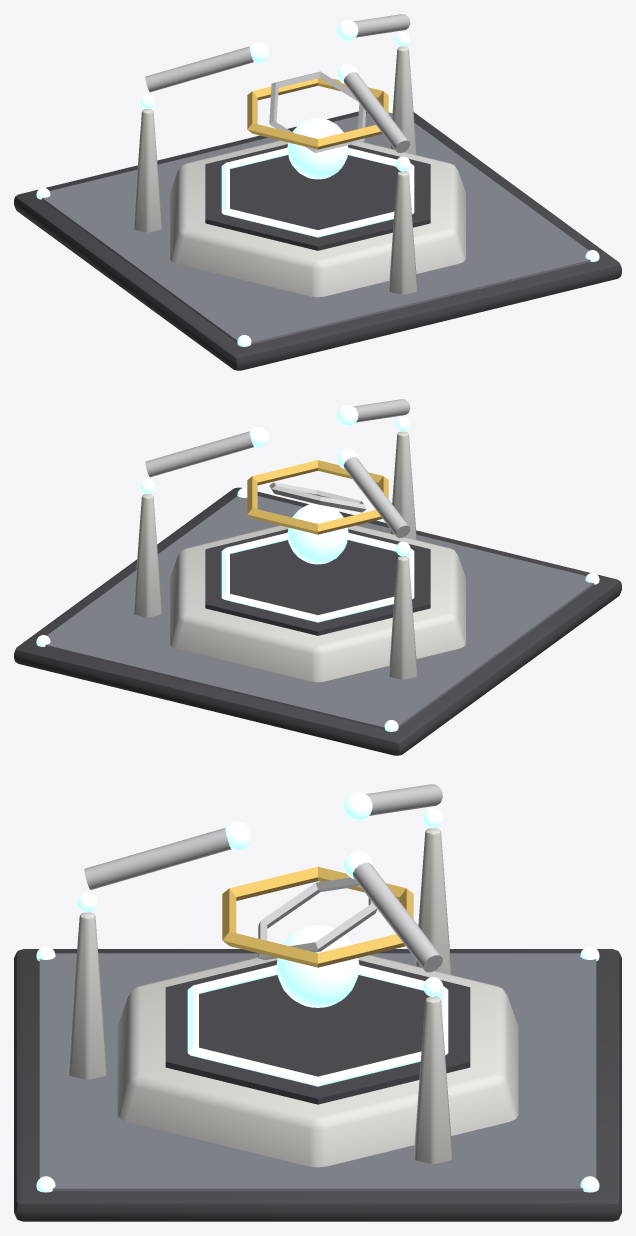
The model's file is medic_rob.glb.
The picture shows the model from 3 angles, top to bottom: view 1: azimuth 30°, elevation 25°; view 2: azimuth 150°, elevation 25°; view 3: azimuth 270°, elevation 25°; orthographic projection. The views are drawn at different scales.
Visible parts, largest first — view 1: medic_rob, spin_m; view 2: medic_rob, spin_m; view 3: medic_rob, spin_m.
Part boxes in pixels (bbox=[...]): medic_rob: bbox=[14, 14, 621, 370]; spin_m: bbox=[247, 71, 388, 152]; medic_rob: bbox=[14, 399, 621, 755]; spin_m: bbox=[247, 460, 388, 534]; medic_rob: bbox=[14, 784, 621, 1221]; spin_m: bbox=[222, 866, 413, 967].
Bounding box in the file's own units: 1.9 × 0.945 × 1.9.
